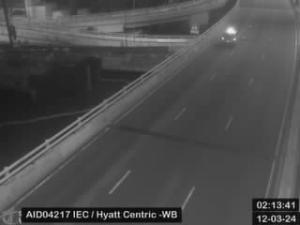vehicle: (218, 26, 240, 46)
